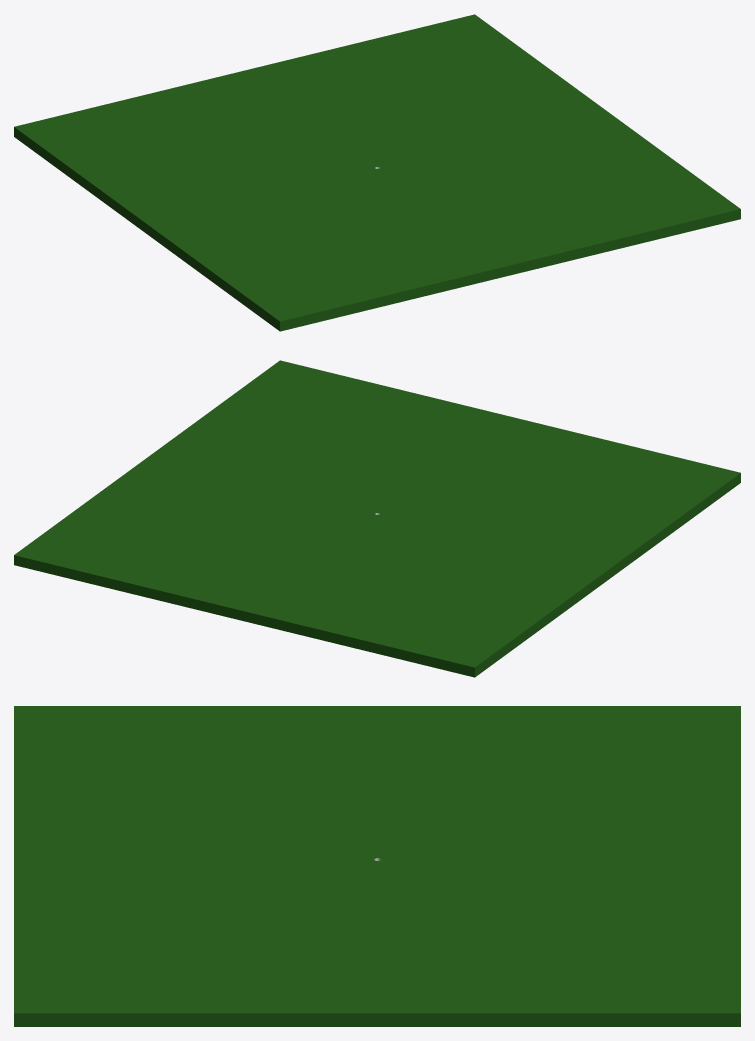
Rendered from course.glb.
The picture shows the model from 3 angles, top to bottom: view 1: azimuth 30°, elevation 25°; view 2: azimuth 150°, elevation 25°; view 3: azimuth 270°, elevation 25°; orthographic projection. The views are drawn at different scales.
Parts seen in each view (by area): view 1: Land; view 2: Land; view 3: Land.
Part boxes in pixels (bbox=[...]): Land: bbox=[14, 14, 740, 331]; Land: bbox=[14, 360, 740, 677]; Land: bbox=[14, 706, 740, 1026].
Size of the model in its own units: 12 by 0.2501 by 12.
